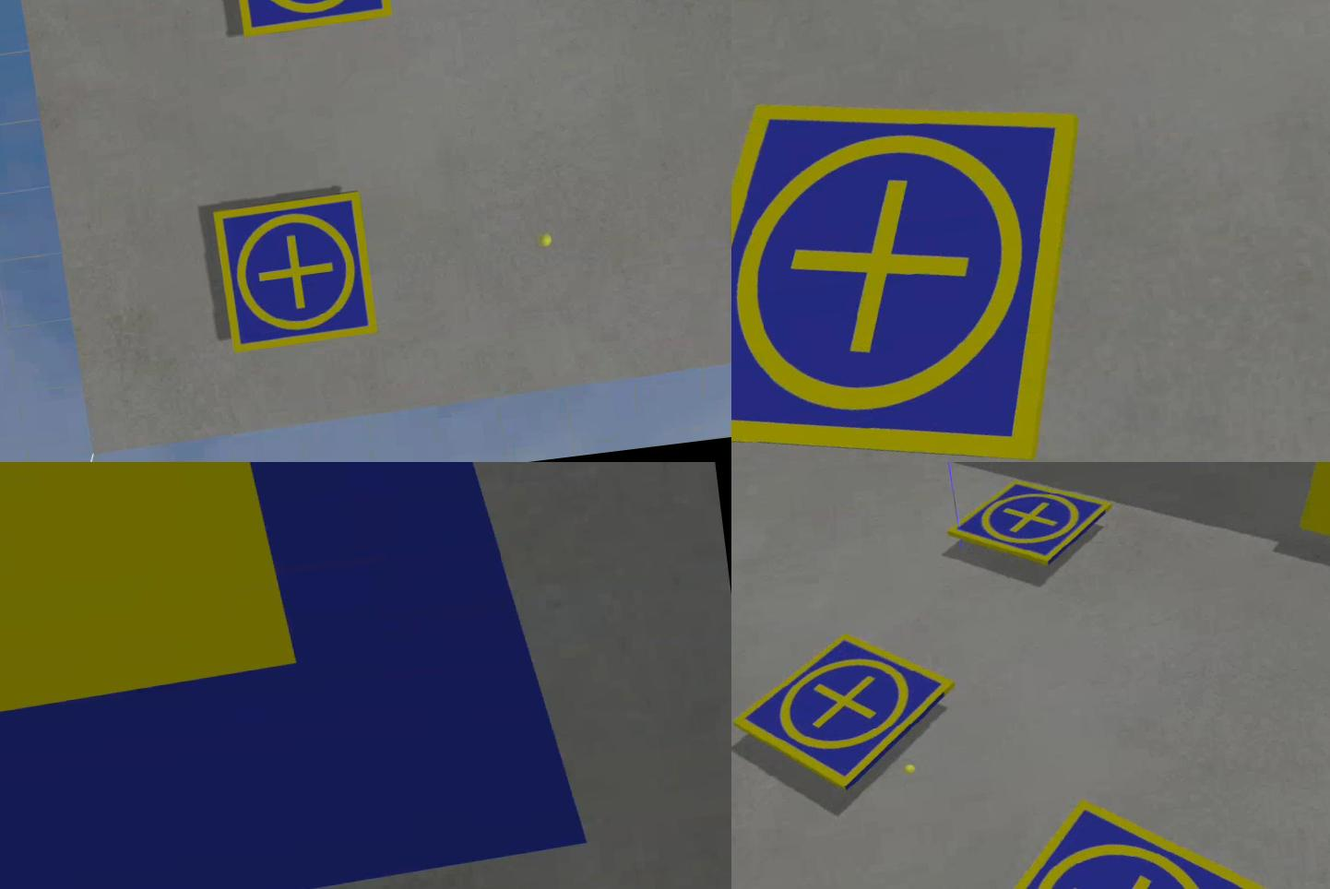large_base: (1, 463, 597, 889)
small_base: (732, 62, 1127, 463), (732, 621, 968, 804), (952, 777, 1291, 889), (213, 190, 380, 356), (944, 467, 1122, 581), (220, 1, 396, 41)
